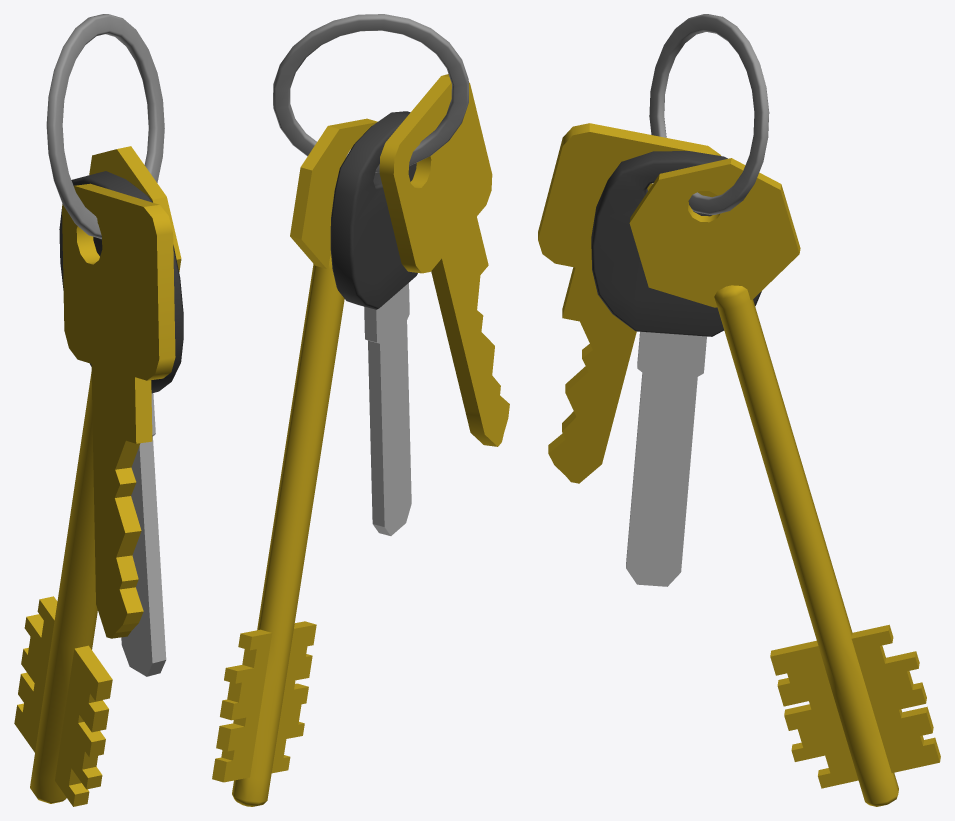
File: Llaves.fbx
3 views of the same model, side by side, from view 1: azimuth 30°, elevation 25°; view 2: azimuth 150°, elevation 25°; view 3: azimuth 270°, elevation 25° (orthographic). The views are drawn at different scales.
Parts seen in each view (by area): view 1: g, g.003, g.002, g.001; view 2: g.003, g, g.002, g.001; view 3: g.003, g.002, g, g.001.
Part boxes in pixels (x1,y1,x2,y2): g: (62, 183, 175, 638); g.003: (14, 146, 181, 806); g.002: (59, 171, 183, 676); g.001: (46, 14, 164, 238); g.003: (212, 118, 377, 806); g: (379, 74, 509, 446); g.002: (330, 111, 417, 535); g.001: (273, 14, 468, 172); g.003: (629, 158, 940, 806); g.002: (591, 151, 761, 586); g: (538, 123, 720, 483); g.001: (649, 14, 769, 214).
Bounding box in the file's own units: 41.37 × 200 × 96.03.
